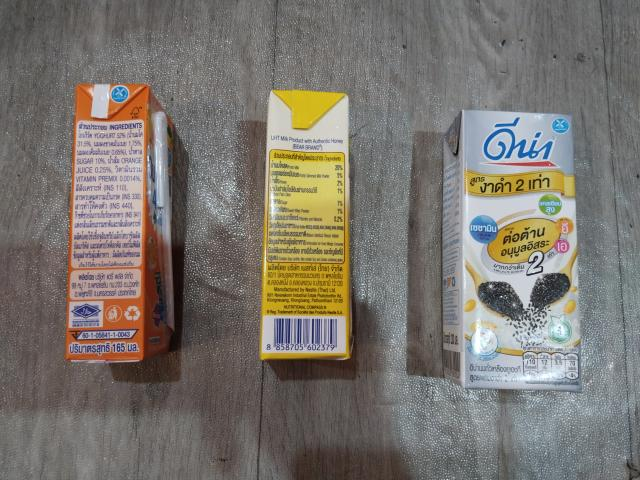drink_box: (441, 107, 590, 399), (71, 77, 181, 366), (258, 86, 358, 374)
